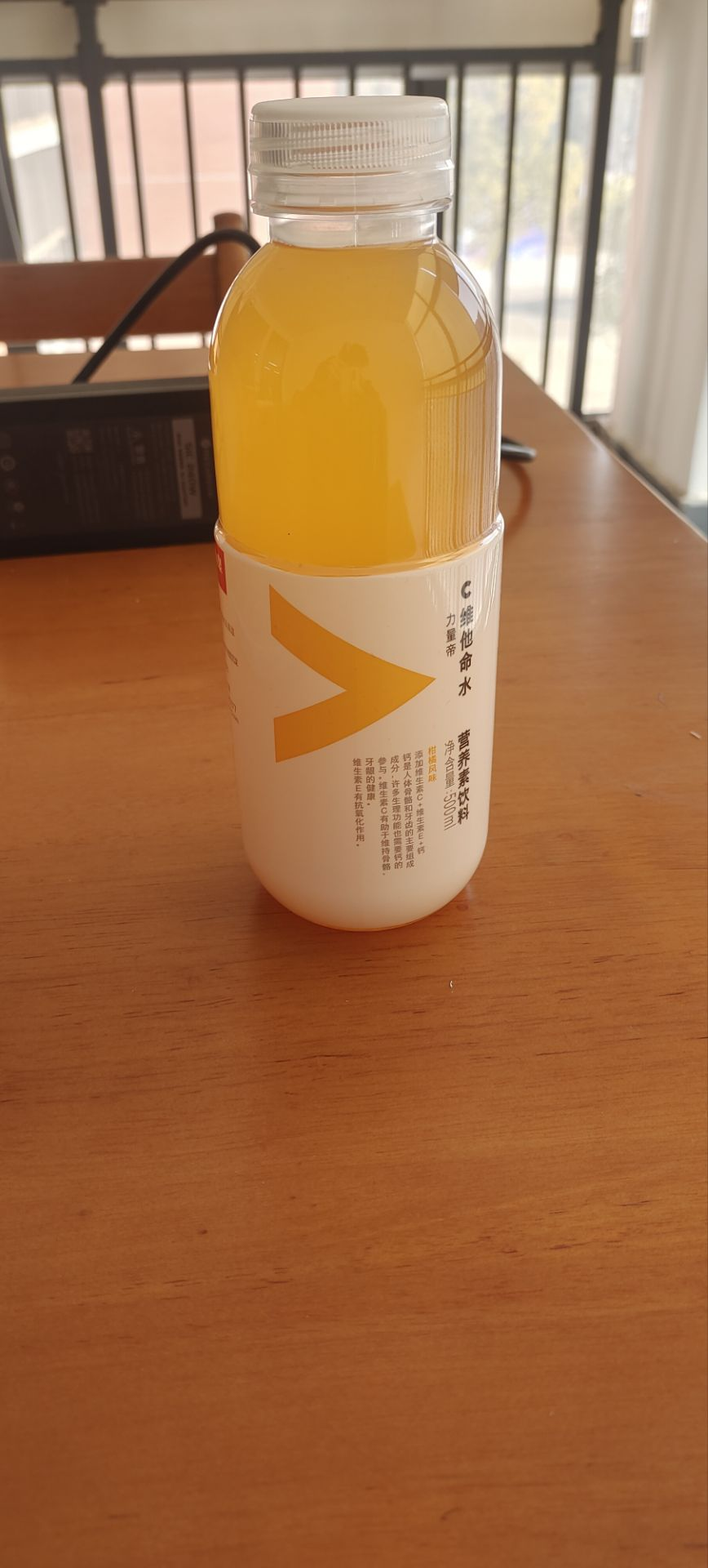redbull: (226, 78, 493, 919)
